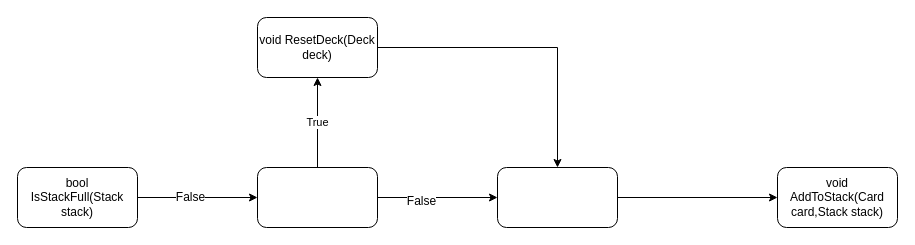
Image size: 915x245. Some labels were removed from this diagram. The shapes that lost their labels are listed below. From the top down, each one's centre as x and y in pixels, then its label:
point 317,197: bool IsDeckGone(Deck deck)
point 557,197: Card DrawCard(Deck deck)
